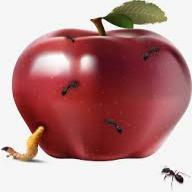apple: (11, 21, 191, 159)
